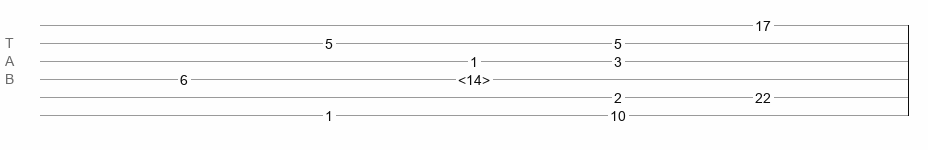1: (325, 108, 333, 118), (470, 54, 478, 64)
10: (610, 108, 626, 118)
17: (755, 18, 771, 28)
2: (614, 90, 622, 100)
22: (755, 90, 771, 100)
3: (614, 54, 622, 64)
5: (325, 36, 333, 46), (614, 36, 622, 46)
6: (180, 72, 188, 82)
harmonic: (458, 72, 490, 82)
